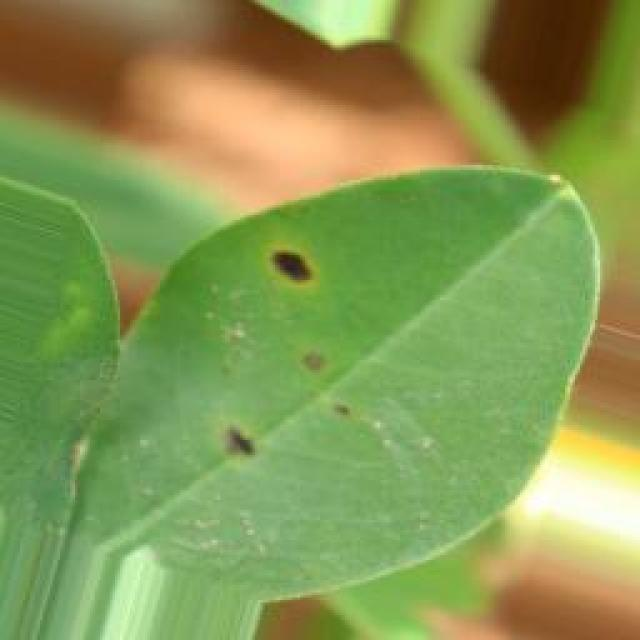Sigatoka: (244, 220, 331, 327), (283, 335, 368, 444), (200, 385, 272, 488)
